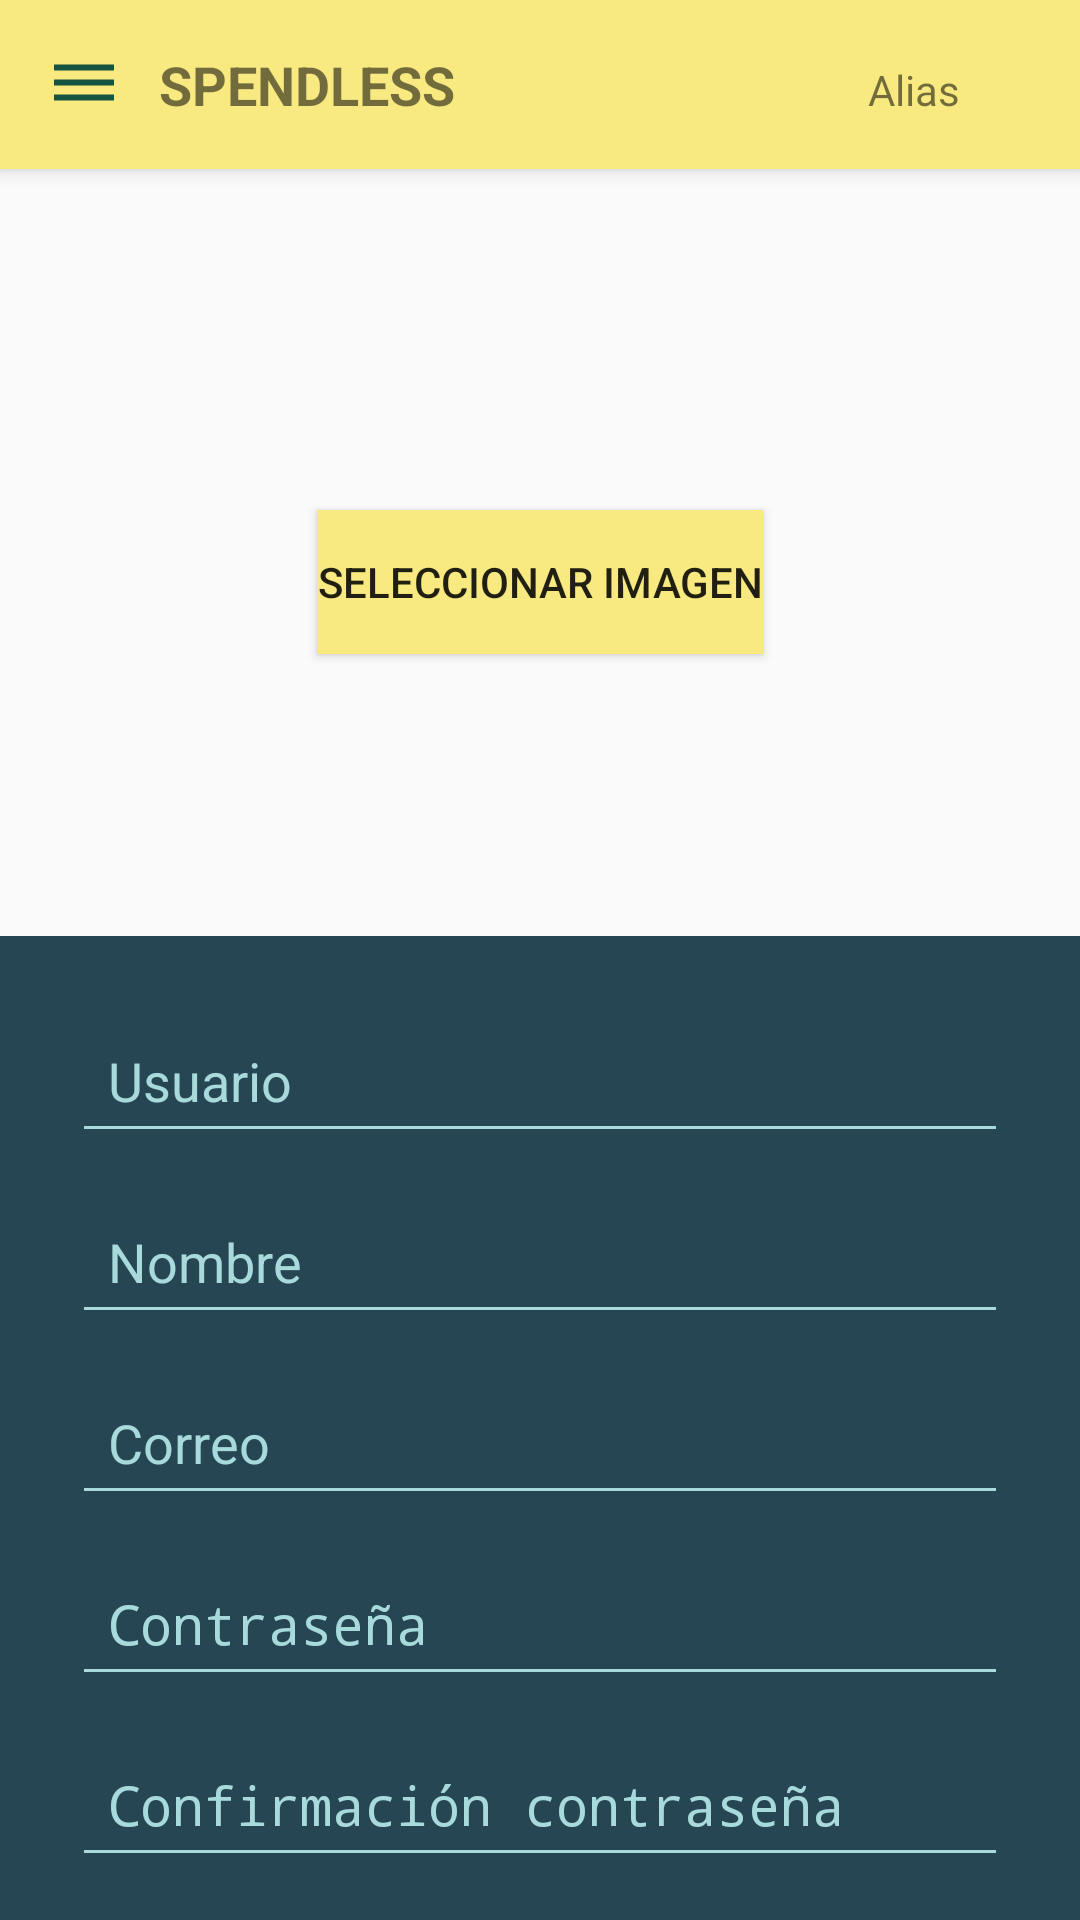

Screen size 1080 x 1920. Icon name, then its box in pixels as (x1, y1, x2, y2):
Menú: (54, 64, 114, 101)
